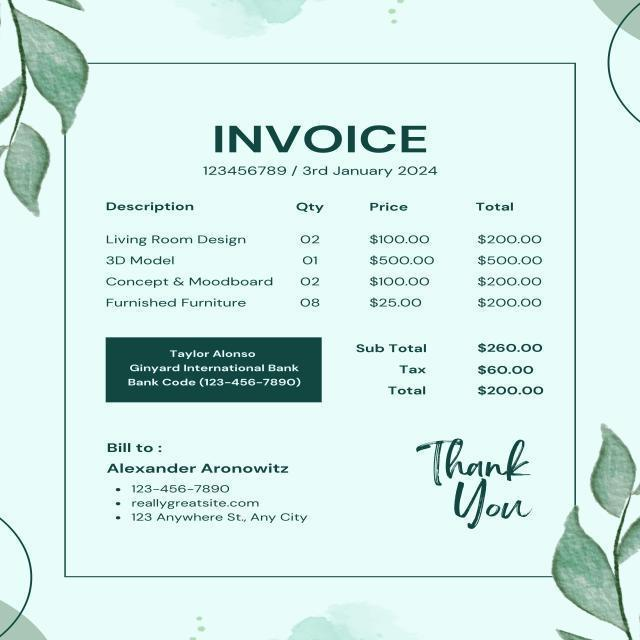ROI: (95, 190, 552, 316), (100, 436, 315, 533), (193, 115, 445, 181), (407, 425, 541, 533), (347, 333, 553, 401), (112, 340, 315, 398)
